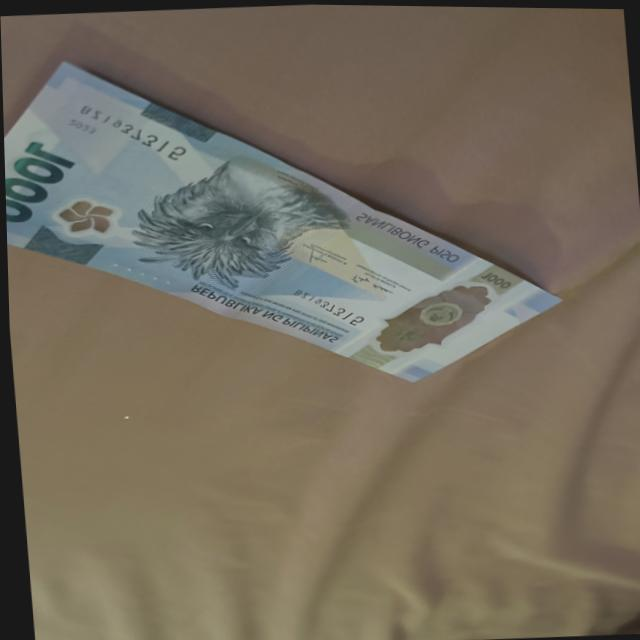clear_window: (364, 280, 495, 355)
eagle: (133, 167, 306, 286)
sampaguita: (57, 193, 127, 242)
